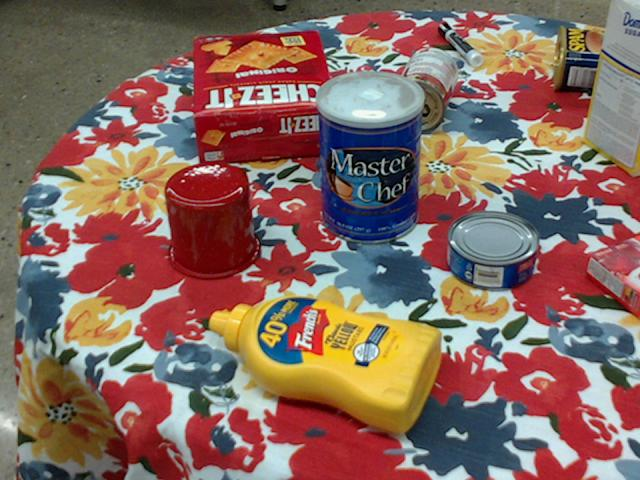cracker_box: (193, 30, 339, 161)
gelatin_box: (587, 235, 639, 318)
large_marker: (440, 22, 484, 65)
master_chef_can: (315, 70, 423, 244)
mug: (163, 161, 261, 279)
mustard_bottle: (209, 294, 443, 432)
potted_meat_can: (554, 23, 628, 91)
sugar_box: (583, 0, 639, 177)
tomato_soup_can: (390, 46, 458, 133)
tuna_fish_can: (448, 211, 541, 291)
